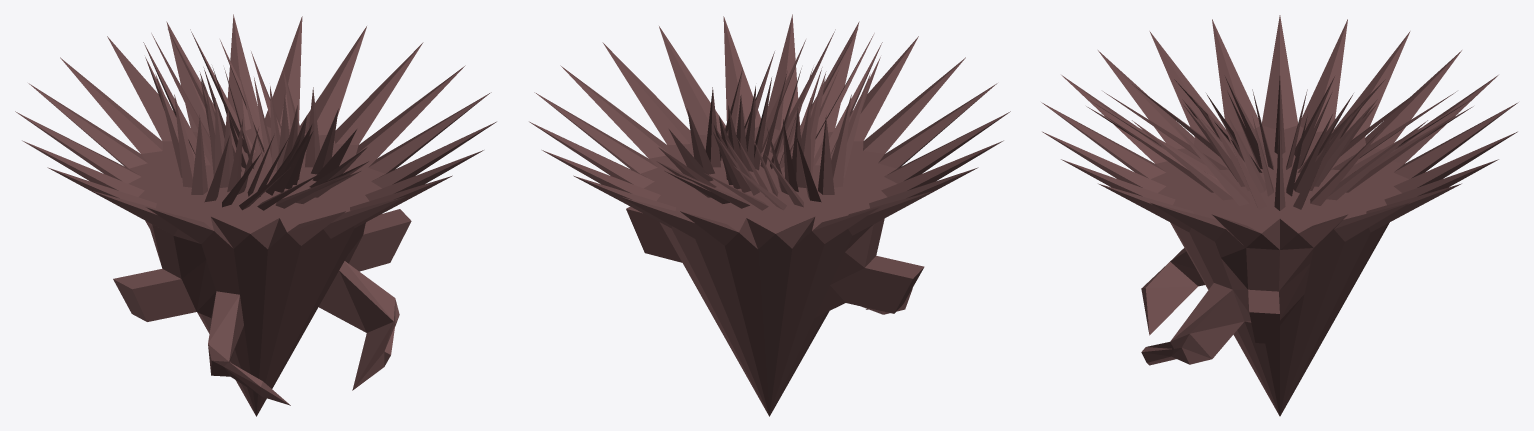
3 views of the same model, side by side, from view 1: azimuth 30°, elevation 25°; view 2: azimuth 150°, elevation 25°; view 3: azimuth 270°, elevation 25° (orthographic).
Parts seen in each view (by area): view 1: Air_Elemental; view 2: Air_Elemental; view 3: Air_Elemental.
Boxes of the visible parts, bbox=[...] form: Air_Elemental: bbox=[15, 14, 496, 416]; Air_Elemental: bbox=[529, 14, 1010, 416]; Air_Elemental: bbox=[1041, 15, 1518, 416].
Bounding box in the file's own units: 2.06 × 1.48 × 2.04.
